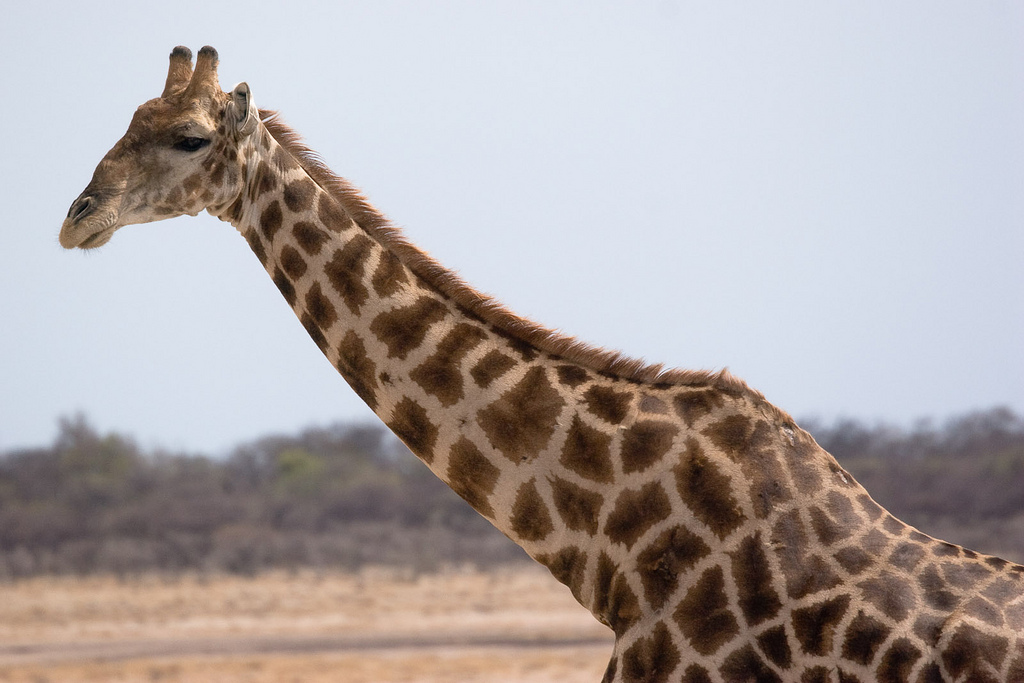giraffe: (73, 61, 952, 627)
